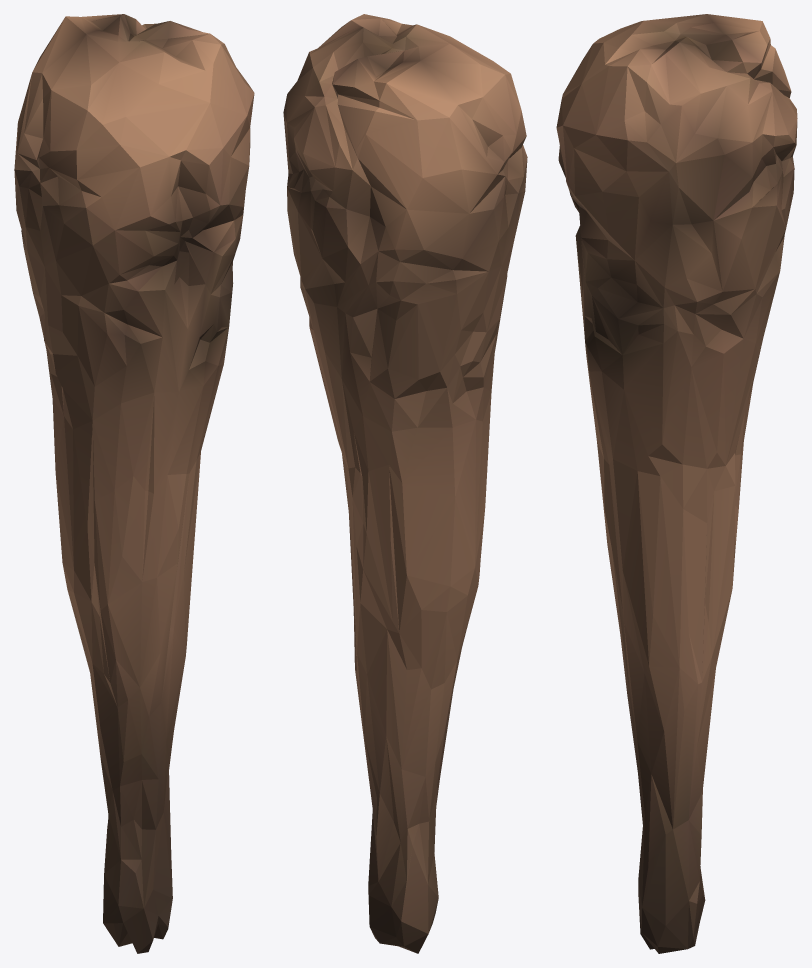
Rendered from epic_Club.fbx.
The picture shows the model from 3 angles, left to right: view 1: azimuth 30°, elevation 25°; view 2: azimuth 150°, elevation 25°; view 3: azimuth 270°, elevation 25°; orthographic projection.
Visible parts, largest first — view 1: epic_Club_mesh; view 2: epic_Club_mesh; view 3: epic_Club_mesh.
Boxes of the visible parts, x1,y1,x2,y2 form: epic_Club_mesh: (14, 14, 254, 953); epic_Club_mesh: (283, 14, 527, 953); epic_Club_mesh: (556, 14, 797, 953).
Size of the model in its own units: 0.3515 by 1.42 by 0.335.
